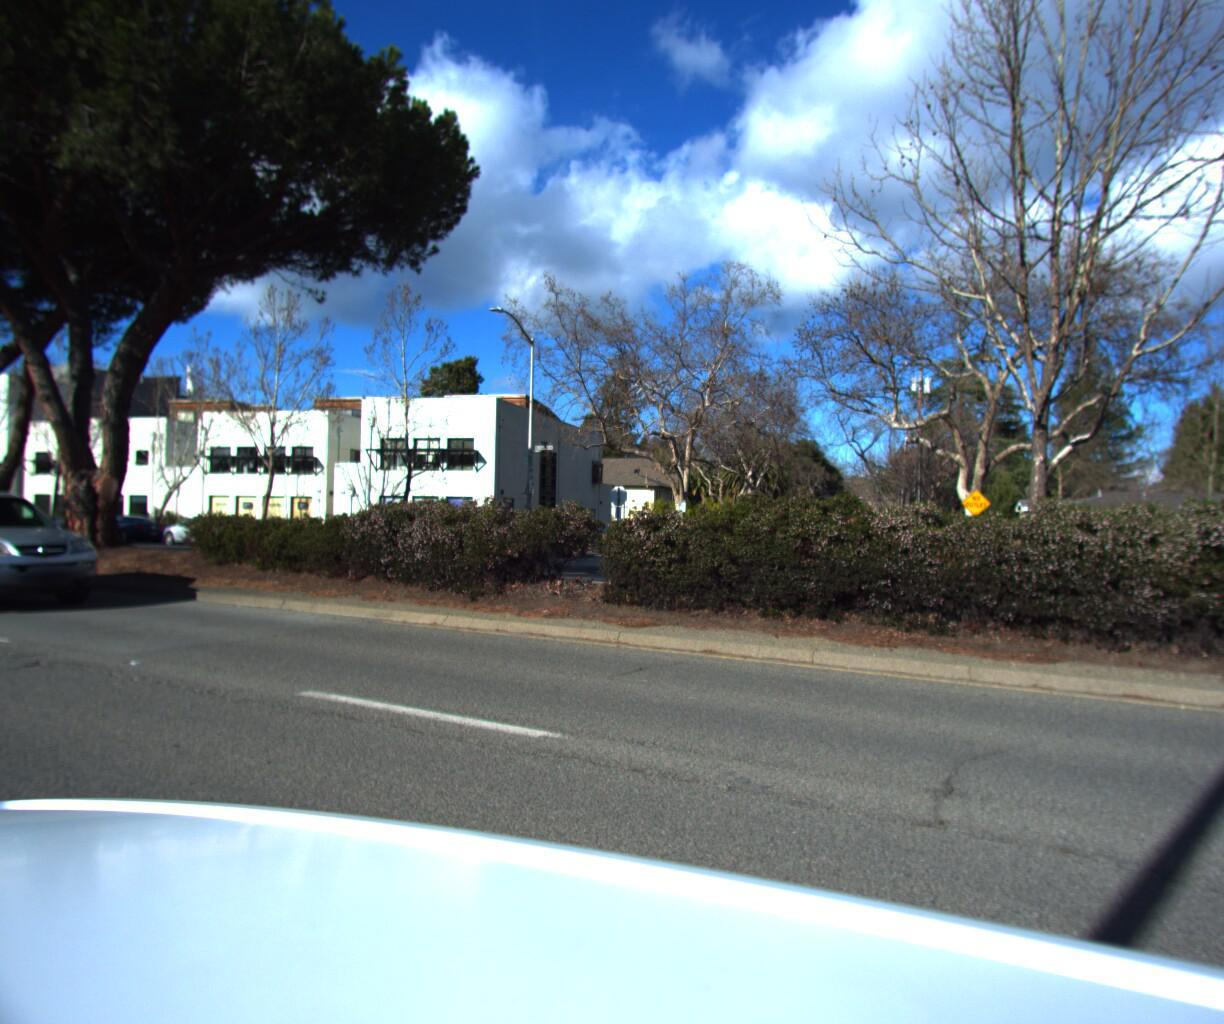car: (0, 472, 119, 621), (160, 515, 258, 550), (86, 517, 175, 547)
